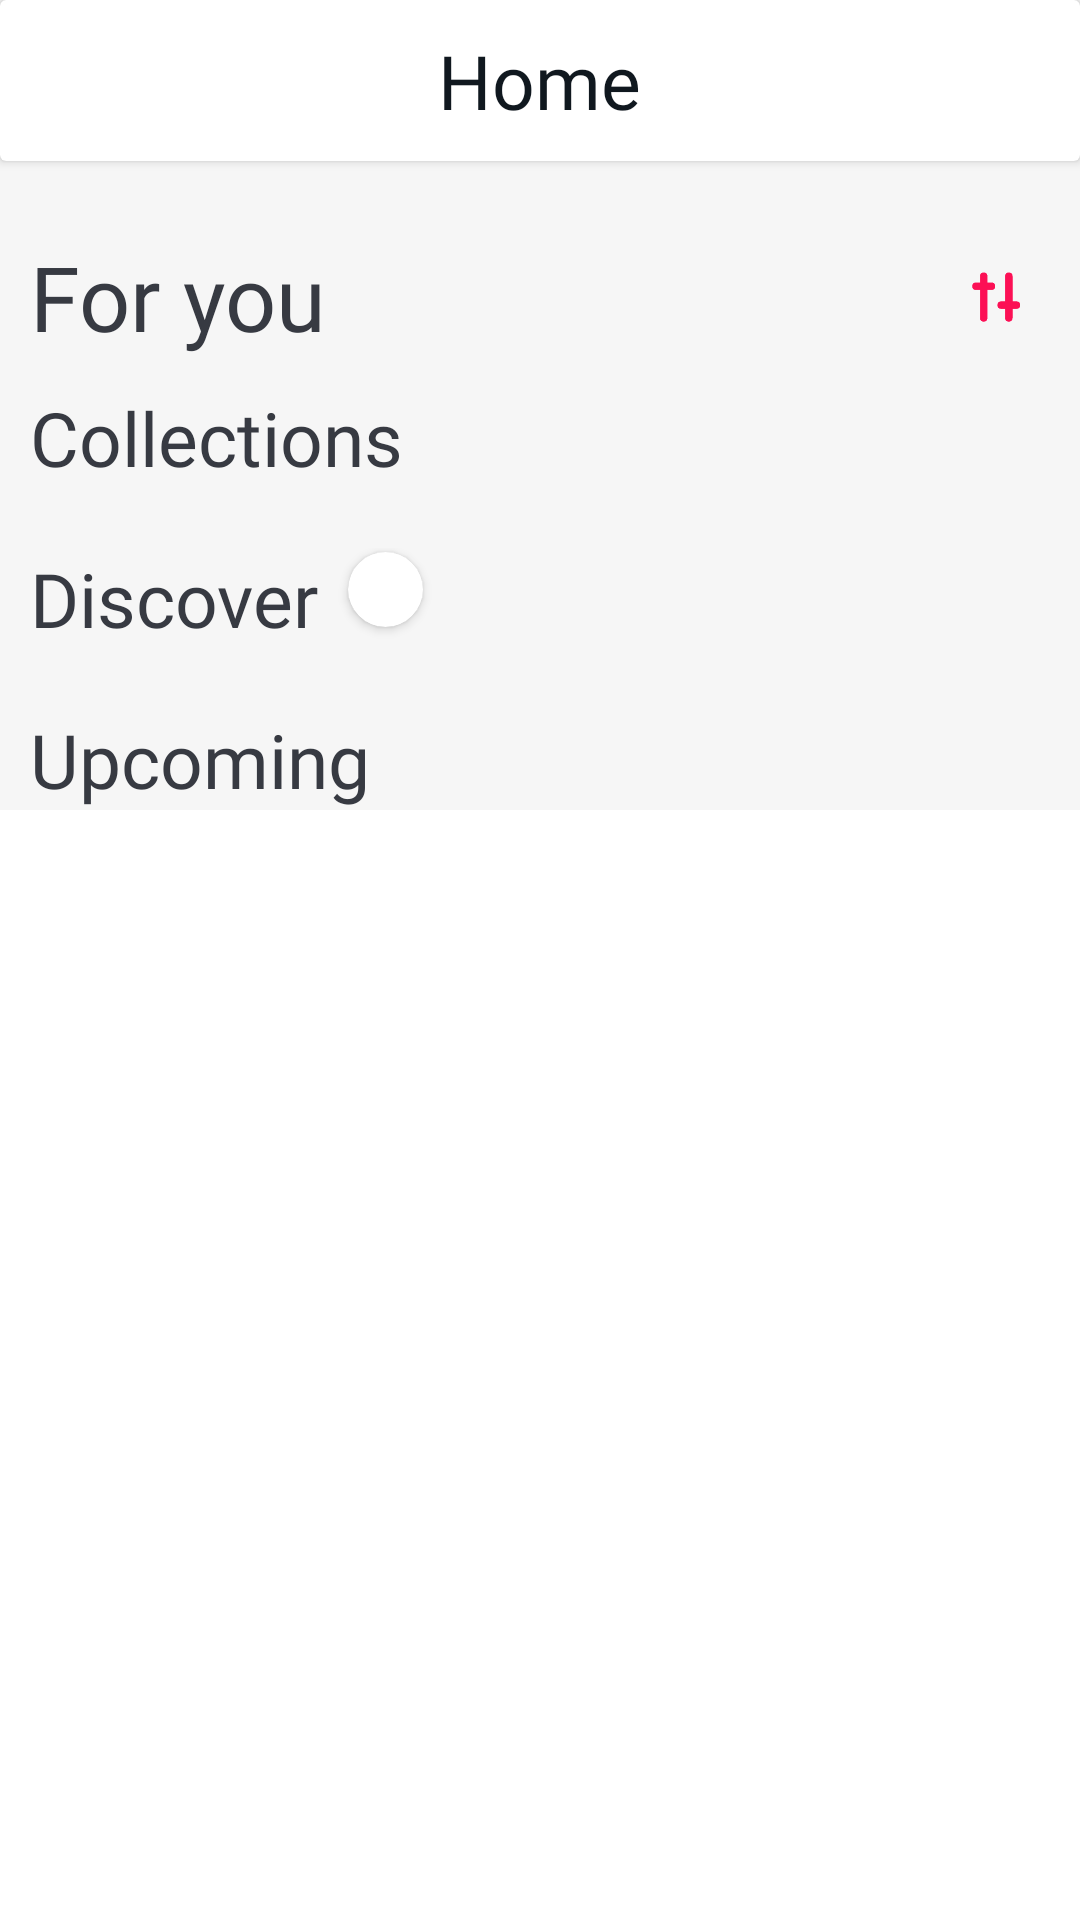

Where icons sit on this 1080w x 1920h app screen, as (x1, y1, x2, y2):
buttons filters: (972, 272, 1020, 322)
